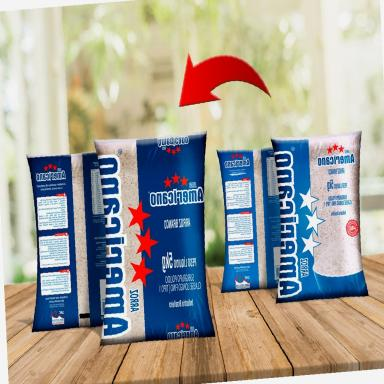rice package: (95, 133, 214, 344), (272, 132, 367, 302), (28, 153, 105, 331), (217, 149, 280, 292)
